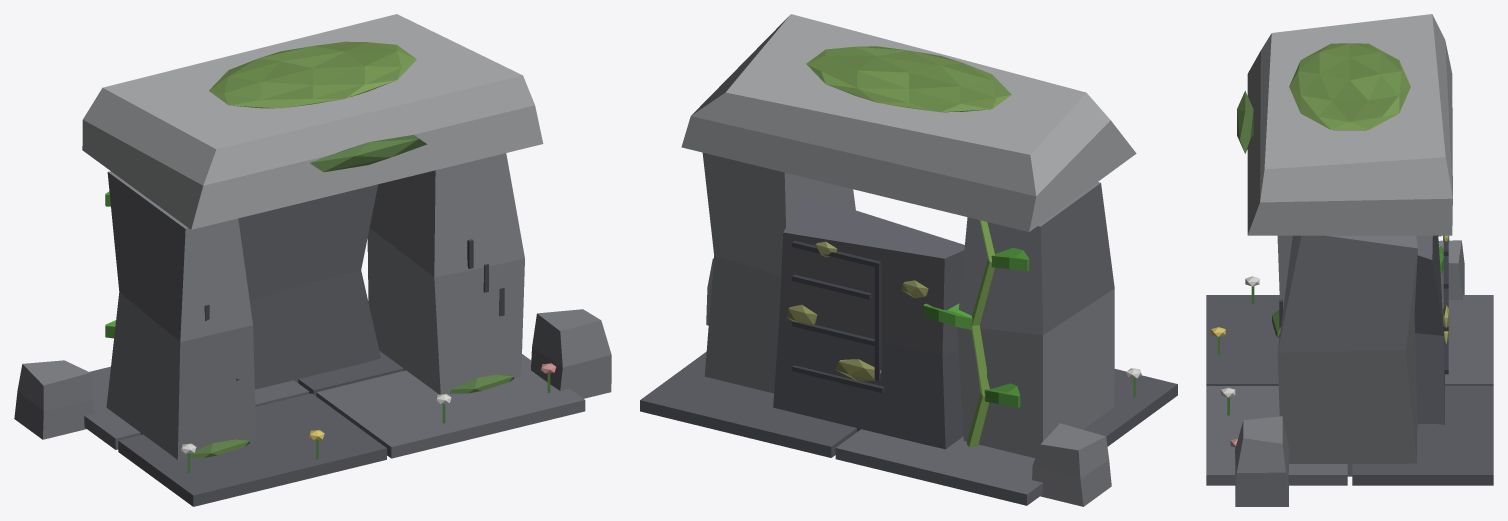
The model's file is Decor_Beanstalk_Dolmen.fbx.
3 views of the same model, side by side, from view 1: azimuth 30°, elevation 25°; view 2: azimuth 150°, elevation 25°; view 3: azimuth 270°, elevation 25° (orthographic). The views are drawn at different scales.
Visible parts, largest first — view 1: Dolmen_Body; view 2: Dolmen_Body; view 3: Dolmen_Body.
Boxes of the visible parts, x1,y1,x2,y2 form: Dolmen_Body: (14,14,611,506); Dolmen_Body: (640,14,1177,506); Dolmen_Body: (1206,14,1493,506).
Bounding box in the file's own units: 21.6 × 14.72 × 12.
